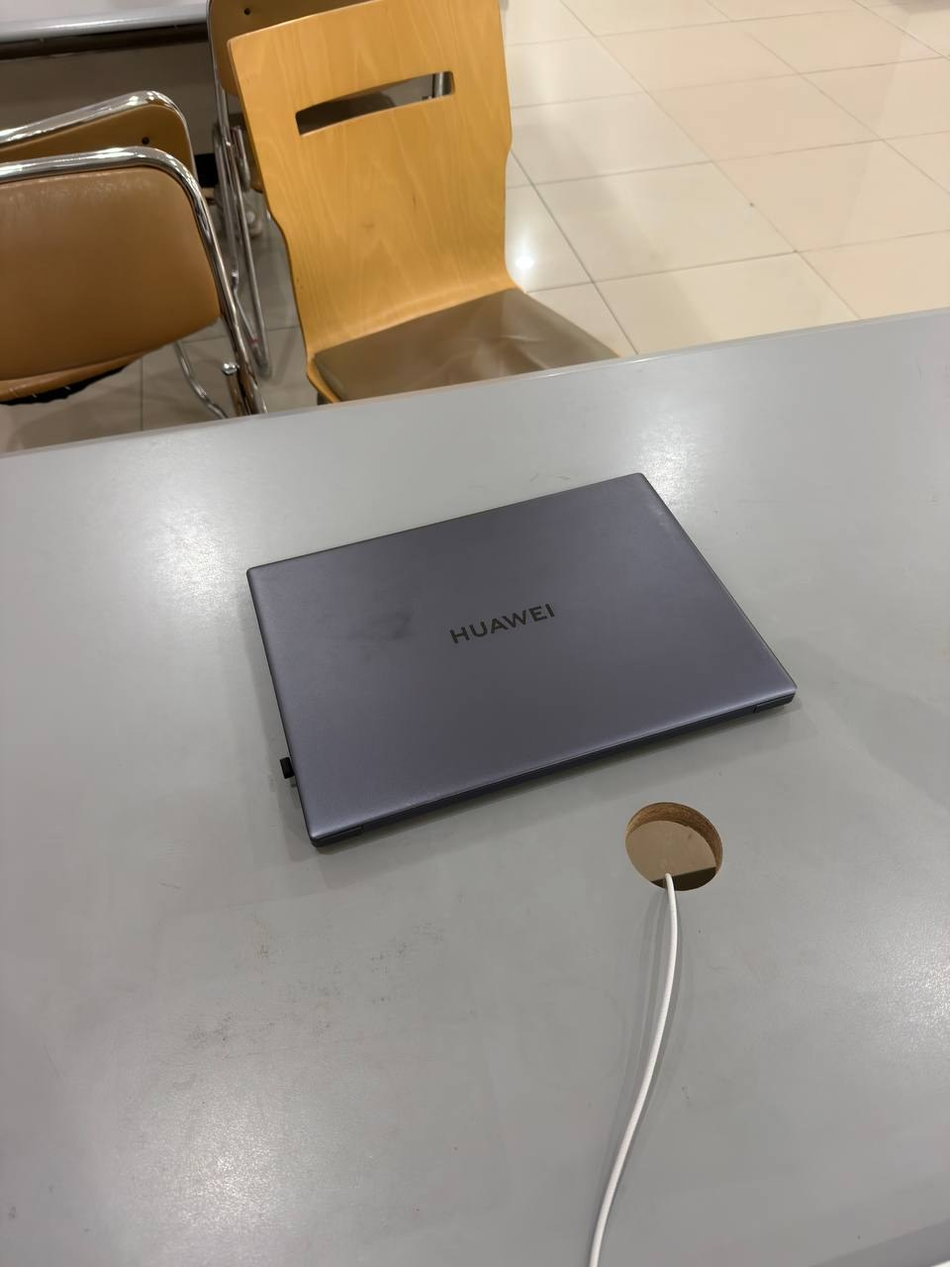laptop: (246, 470, 797, 848)
